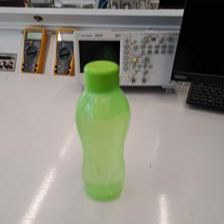bottle: (71, 57, 132, 204)
